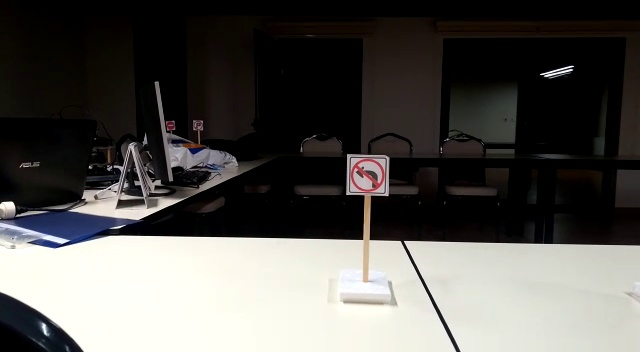sola_donulmez: (348, 149, 389, 193)
